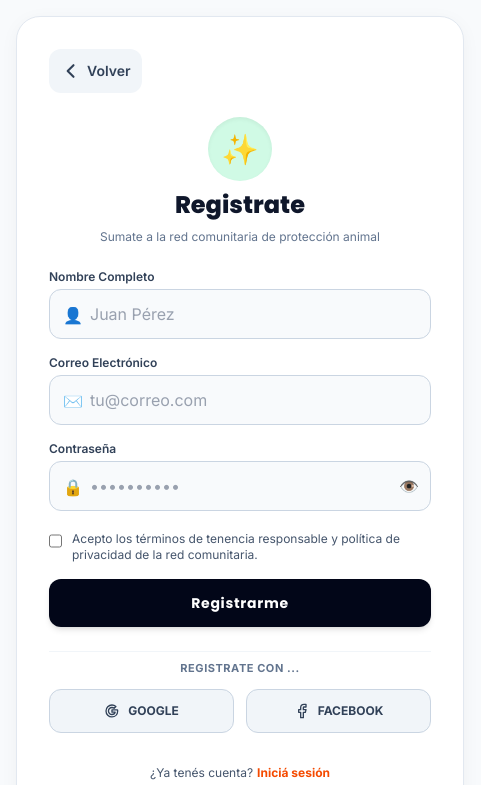
Test: RegisterPage › valida con zod que la contraseña tenga al menos 6 caracteres con el mensaje exacto
Type "Lucía Gómez" into the field labelled "Nombre Completo" at coordinates (240, 314), box [49, 289, 431, 339]
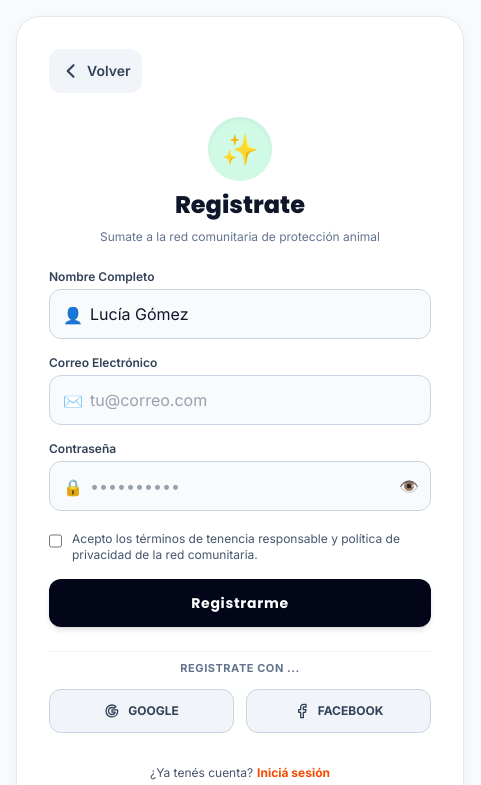
Type "vecino@callejeros.ar" into the field labelled "Correo Electrónico" at coordinates (240, 400), box [49, 375, 431, 425]
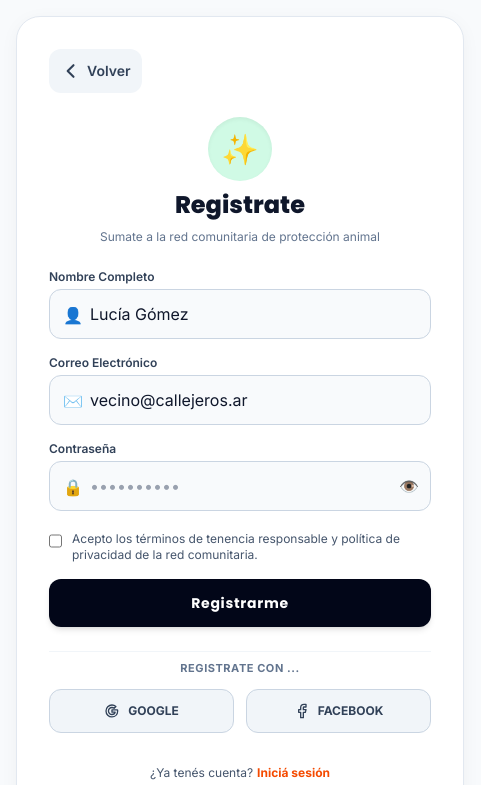
Type "12345" into the password field labelled "Contraseña" at coordinates (240, 486), box [49, 461, 431, 511]
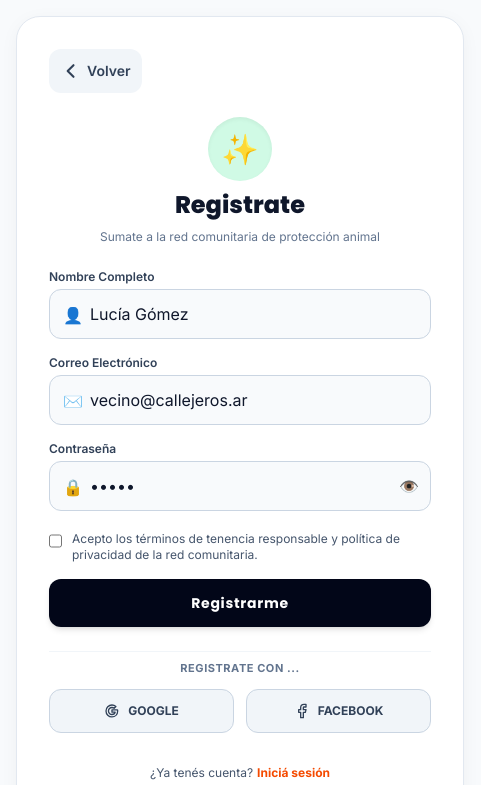
Click the checkbox labelled "Acepto los términos de tenencia responsable y política de privacidad" at coordinates (56, 541), box [49, 533, 62, 549]
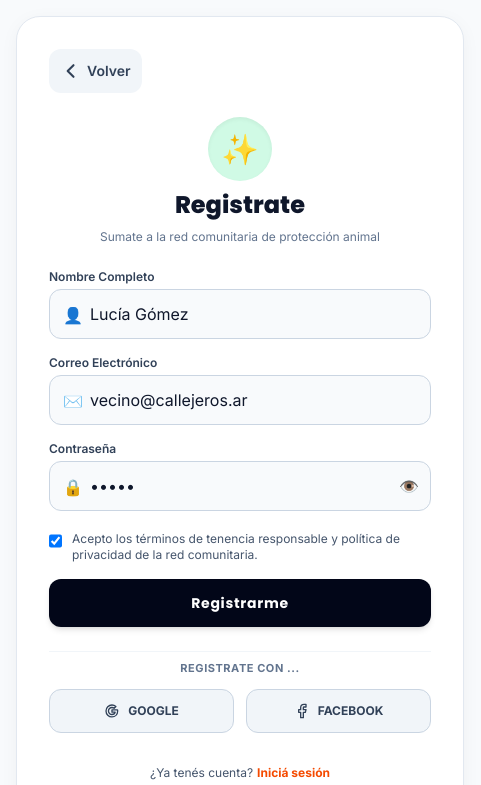
Click the button "Registrarme" at coordinates (240, 603), box [49, 579, 431, 627]
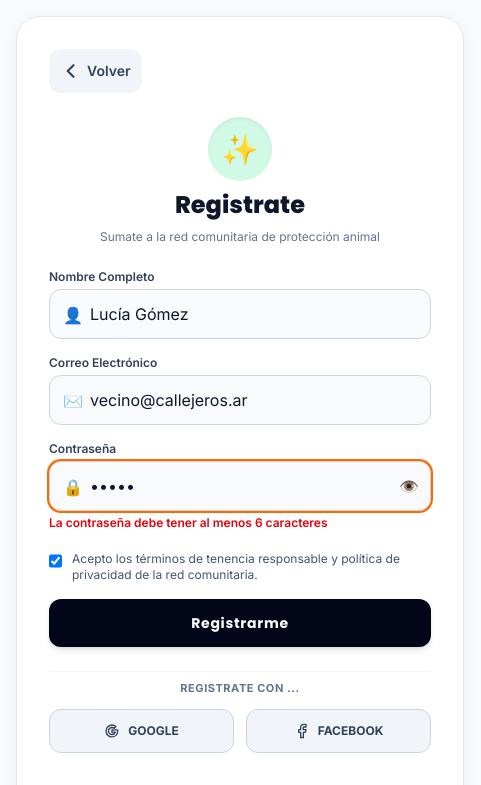
Now the text "La contraseña debe tener al menos 6 caracteres" is shown, box [49, 515, 328, 530]
